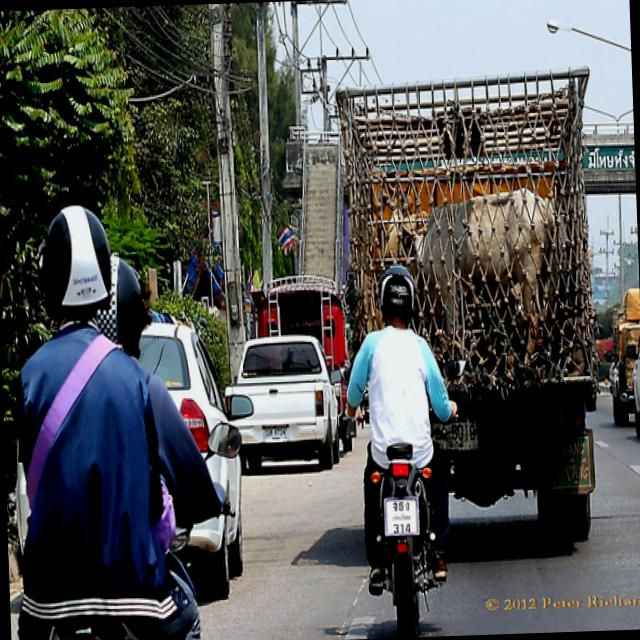Vehicle: (334, 70, 608, 558), (11, 316, 260, 608), (356, 354, 474, 639), (221, 335, 347, 475), (228, 334, 346, 472), (602, 286, 640, 427), (46, 620, 149, 640), (629, 292, 640, 442)
